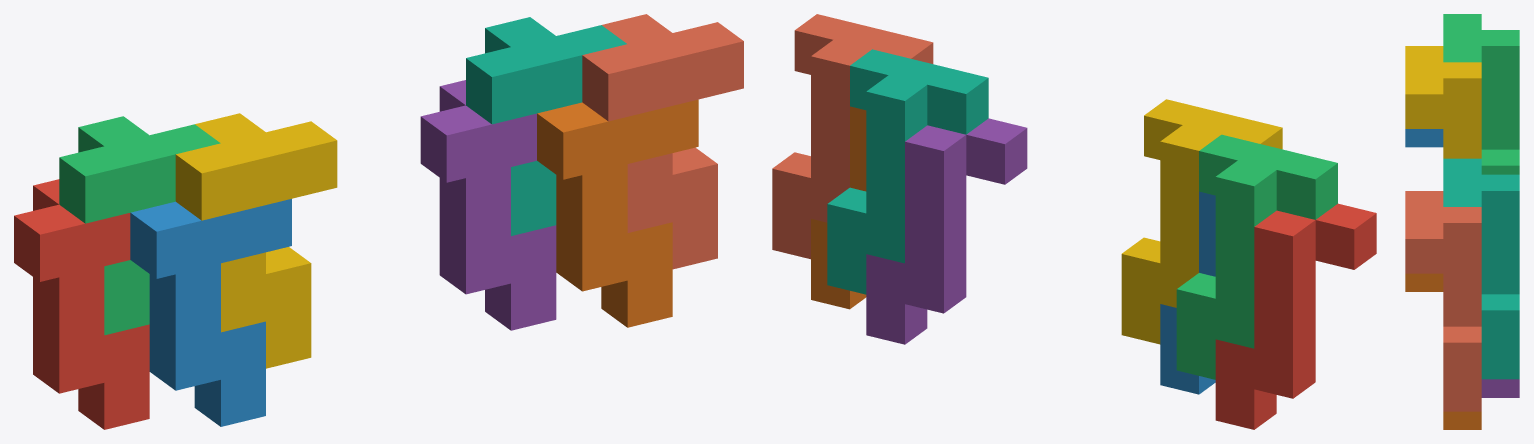
The model's file is tiling.obj.
3 views of the same model, side by side, from view 1: azimuth 30°, elevation 25°; view 2: azimuth 150°, elevation 25°; view 3: azimuth 270°, elevation 25° (orthographic). The views are drawn at different scales.
Visible parts, largest first — view 1: copy_1_domain_6, copy_1_domain_2, copy_1_domain_5, copy_1_domain_1, copy_1_domain_4, copy_1_domain_8, copy_1_domain_3, copy_1_domain_7; view 2: copy_1_domain_1, copy_1_domain_5, copy_1_domain_3, copy_1_domain_7, copy_1_domain_4, copy_1_domain_8, copy_1_domain_2, copy_1_domain_6; view 3: copy_1_domain_8, copy_1_domain_7, copy_1_domain_3, copy_1_domain_4, copy_1_domain_6, copy_1_domain_5, copy_1_domain_2.
Part boxes in pixels (left/top/right/bottom): copy_1_domain_6: left=537, top=99, right=698, bottom=327; copy_1_domain_2: left=130, top=199, right=291, bottom=426; copy_1_domain_5: left=420, top=80, right=556, bottom=330; copy_1_domain_1: left=14, top=179, right=149, bottom=429; copy_1_domain_4: left=175, top=113, right=337, bottom=368; copy_1_domain_8: left=582, top=14, right=743, bottom=269; copy_1_domain_3: left=59, top=116, right=220, bottom=335; copy_1_domain_7: left=466, top=17, right=626, bottom=235; copy_1_domain_1: left=1215, top=203, right=1376, bottom=429; copy_1_domain_5: left=866, top=118, right=1027, bottom=344; copy_1_domain_3: left=1176, top=134, right=1337, bottom=379; copy_1_domain_7: left=827, top=49, right=988, bottom=294; copy_1_domain_4: left=1121, top=99, right=1282, bottom=344; copy_1_domain_8: left=772, top=14, right=933, bottom=259; copy_1_domain_2: left=1160, top=191, right=1215, bottom=394; copy_1_domain_6: left=811, top=106, right=866, bottom=309; copy_1_domain_8: left=1405, top=191, right=1481, bottom=411; copy_1_domain_7: left=1443, top=158, right=1519, bottom=379; copy_1_domain_3: left=1443, top=14, right=1519, bottom=174; copy_1_domain_4: left=1405, top=46, right=1481, bottom=158; copy_1_domain_6: left=1405, top=273, right=1481, bottom=429; copy_1_domain_5: left=1481, top=379, right=1519, bottom=397; copy_1_domain_2: left=1405, top=129, right=1443, bottom=147.
Size of the model in its own units: 15 by 6 by 3.
